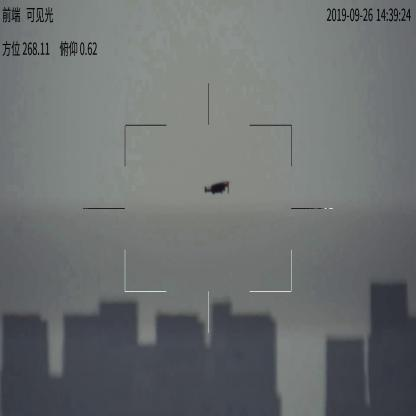uav: (200, 178, 234, 198)
